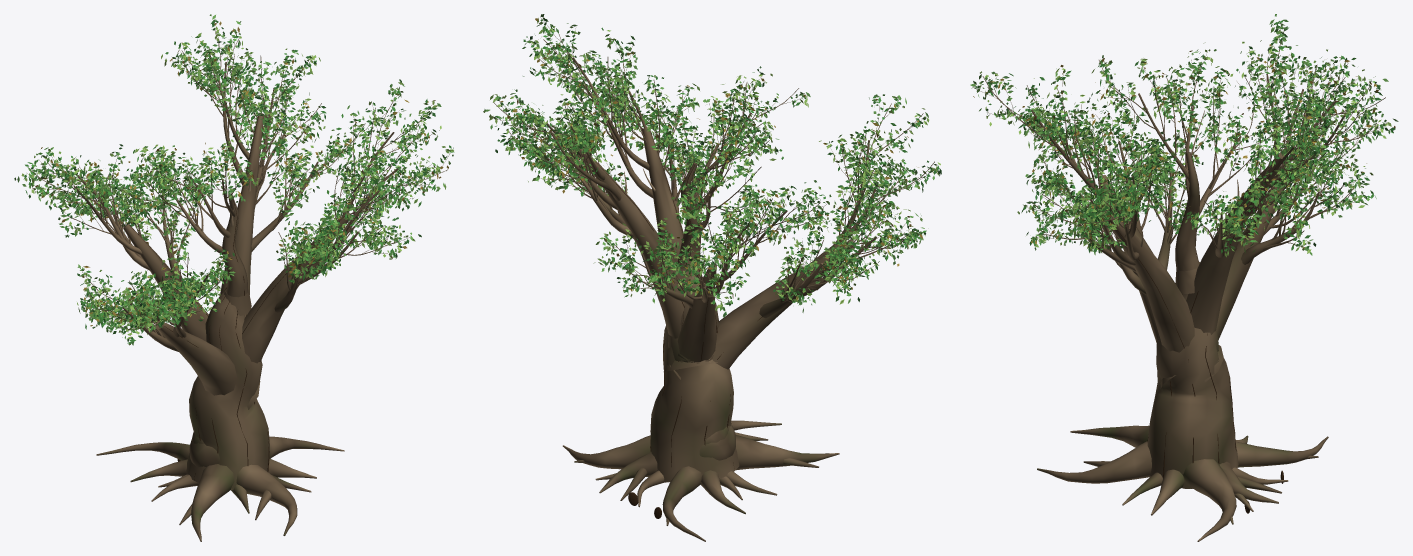
The model's file is ancient_tree_01_lod1.glb.
The picture shows the model from 3 angles, left to right: view 1: azimuth 30°, elevation 25°; view 2: azimuth 150°, elevation 25°; view 3: azimuth 270°, elevation 25°; orthographic projection. The views are drawn at different scales.
Visible parts, largest first — view 1: AncientLeaves_LOD1, AncientTreeWood_LOD1, FineBranches_LOD1, DirectedBarkGrooves_LOD1; view 2: AncientTreeWood_LOD1, AncientLeaves_LOD1, FineBranches_LOD1, DirectedBarkGrooves_LOD1; view 3: AncientTreeWood_LOD1, AncientLeaves_LOD1, FineBranches_LOD1, DirectedBarkGrooves_LOD1.
Boxes of the visible parts, box(x1,y1,x2,y2) form: AncientLeaves_LOD1: box(14, 14, 454, 345); AncientTreeWood_LOD1: box(27, 30, 447, 541); FineBranches_LOD1: box(27, 22, 450, 337); DirectedBarkGrooves_LOD1: box(129, 116, 344, 479); AncientTreeWood_LOD1: box(493, 34, 934, 541); AncientLeaves_LOD1: box(483, 14, 941, 317); FineBranches_LOD1: box(492, 18, 935, 302); DirectedBarkGrooves_LOD1: box(595, 130, 852, 468); AncientTreeWood_LOD1: box(982, 27, 1385, 541); AncientLeaves_LOD1: box(970, 14, 1398, 257); FineBranches_LOD1: box(973, 25, 1386, 250); DirectedBarkGrooves_LOD1: box(1101, 152, 1275, 488).
Size of the model in its own units: 20.22 by 22.16 by 18.51.
